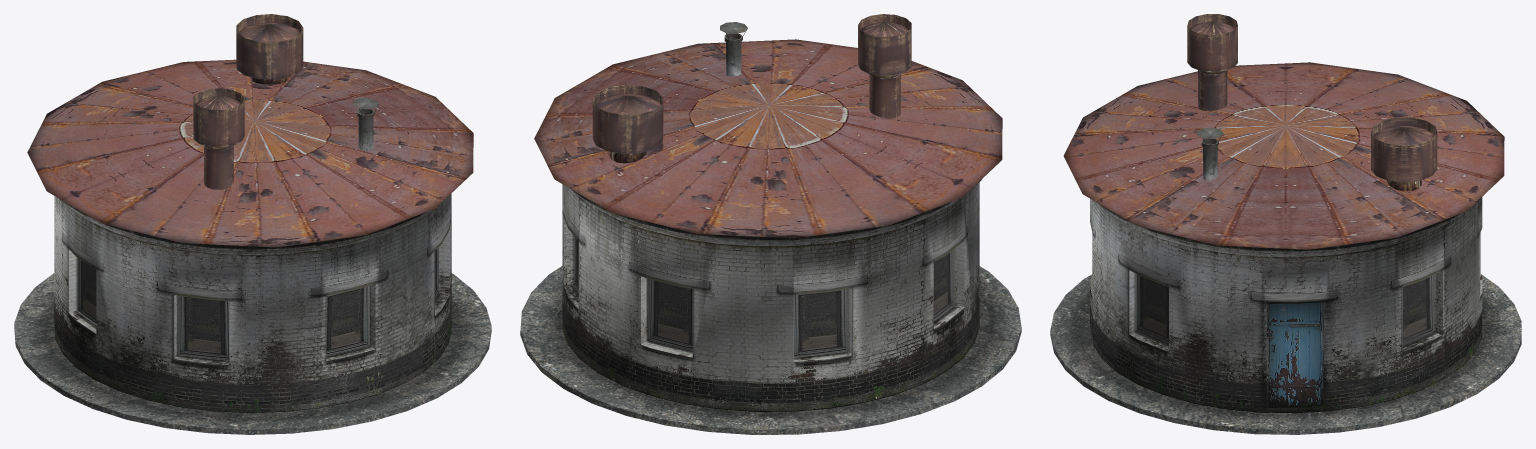
Rendered from pump.glb.
3 views of the same model, side by side, from view 1: azimuth 30°, elevation 25°; view 2: azimuth 150°, elevation 25°; view 3: azimuth 270°, elevation 25° (orthographic). The views are drawn at different scales.
Parts seen in each view (by area): view 1: _(Loose Entity); view 2: _(Loose Entity); view 3: _(Loose Entity).
Boxes of the visible parts, x1,y1,x2,y2 form: _(Loose Entity): (14, 14, 491, 434); _(Loose Entity): (520, 14, 1021, 434); _(Loose Entity): (1050, 14, 1521, 434).
Bounding box in the file's own units: 8.4 × 6.39 × 8.39.
3 materials, 2 textured.
